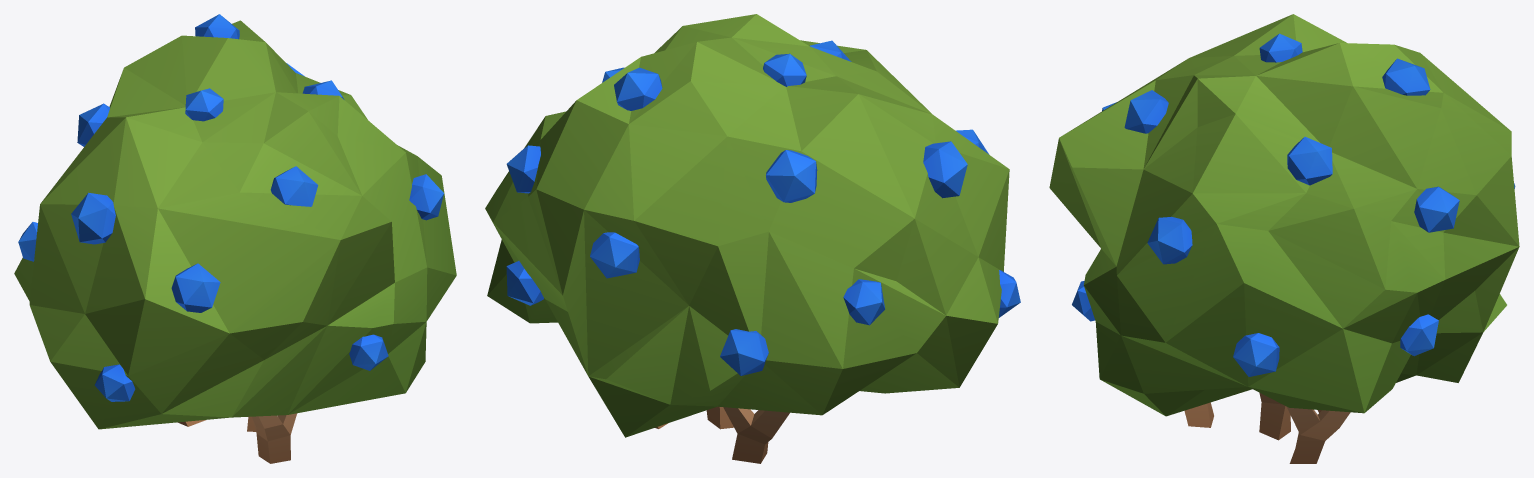
The model's file is Bushes 1_Shiqi.glb.
3 renders of one model, left to right at view 1: azimuth 30°, elevation 25°; view 2: azimuth 150°, elevation 25°; view 3: azimuth 270°, elevation 25°, orthographic. The views are drawn at different scales.
Parts seen in each view (by area): view 1: Bush_average_blue; view 2: Bush_average_blue; view 3: Bush_average_blue.
Boxes of the visible parts, x1,y1,x2,y2 form: Bush_average_blue: (14, 14, 456, 463); Bush_average_blue: (485, 14, 1020, 463); Bush_average_blue: (1049, 14, 1519, 463).
Bounding box in the file's own units: 4.72 × 4.08 × 4.48.
Materials: 1 (1 with a texture image).
